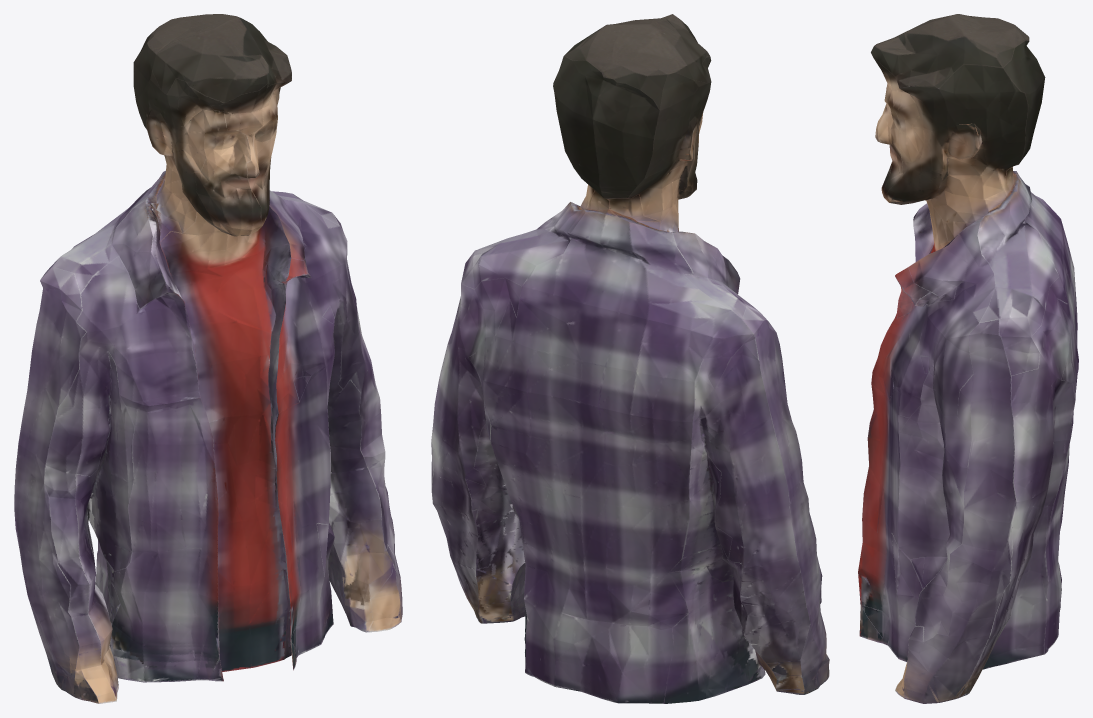
The model's file is step_2.glb.
The picture shows the model from 3 angles, left to right: view 1: azimuth 30°, elevation 25°; view 2: azimuth 150°, elevation 25°; view 3: azimuth 270°, elevation 25°; orthographic projection. The views are drawn at different scales.
Visible parts, largest first — view 1: geometry_0; view 2: geometry_0; view 3: geometry_0.
Boxes of the visible parts, <box> form: geometry_0: <box>14,14,402,703</box>; geometry_0: <box>431,14,829,703</box>; geometry_0: <box>858,14,1078,703</box>.
Size of the model in its own units: 0.5061 by 0.8284 by 0.2754.
1 material, 1 textured.
